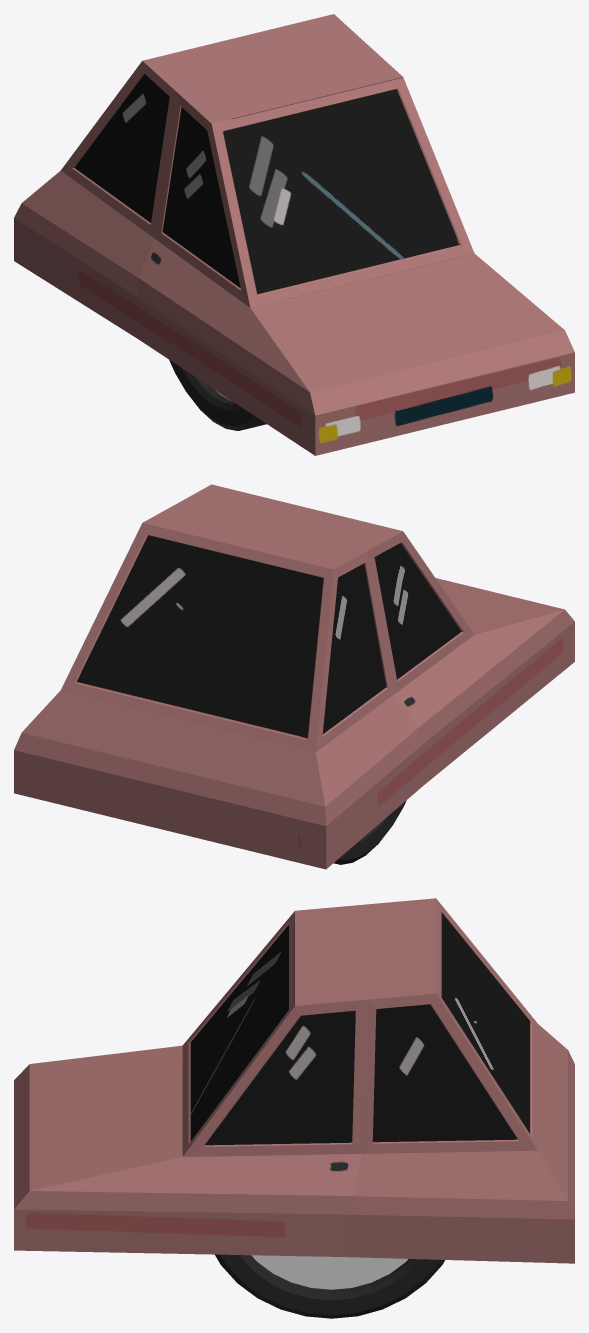
File: finalcar.glb
3 renders of one model, top to bottom at view 1: azimuth 30°, elevation 25°; view 2: azimuth 150°, elevation 25°; view 3: azimuth 270°, elevation 25°, orthographic.
Parts seen in each view (by area): view 1: car, wheel; view 2: car, wheel; view 3: car, wheel.
Part boxes in pixels (box(x1,y1,x2,y2)): car: box(14, 14, 574, 455); wheel: box(169, 360, 266, 430); car: box(14, 484, 574, 869); wheel: box(334, 800, 406, 864); car: box(14, 898, 574, 1263); wheel: box(215, 1254, 444, 1318).
Bounding box in the file's own units: 1.67 × 1.68 × 2.55.
3 materials, 1 textured.
